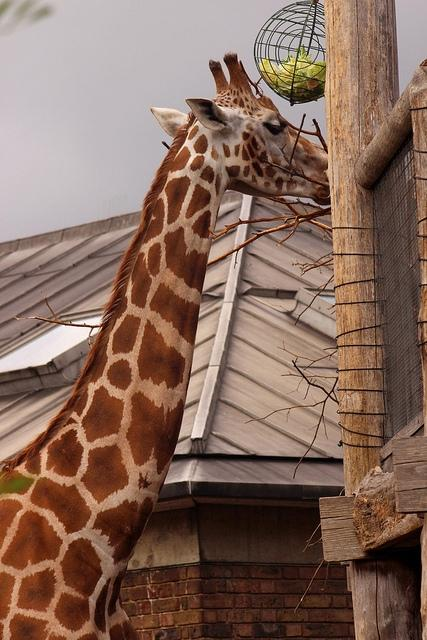lettuce: (259, 56, 280, 74), (310, 62, 327, 82), (278, 62, 296, 76), (294, 80, 309, 89), (302, 62, 314, 72)
